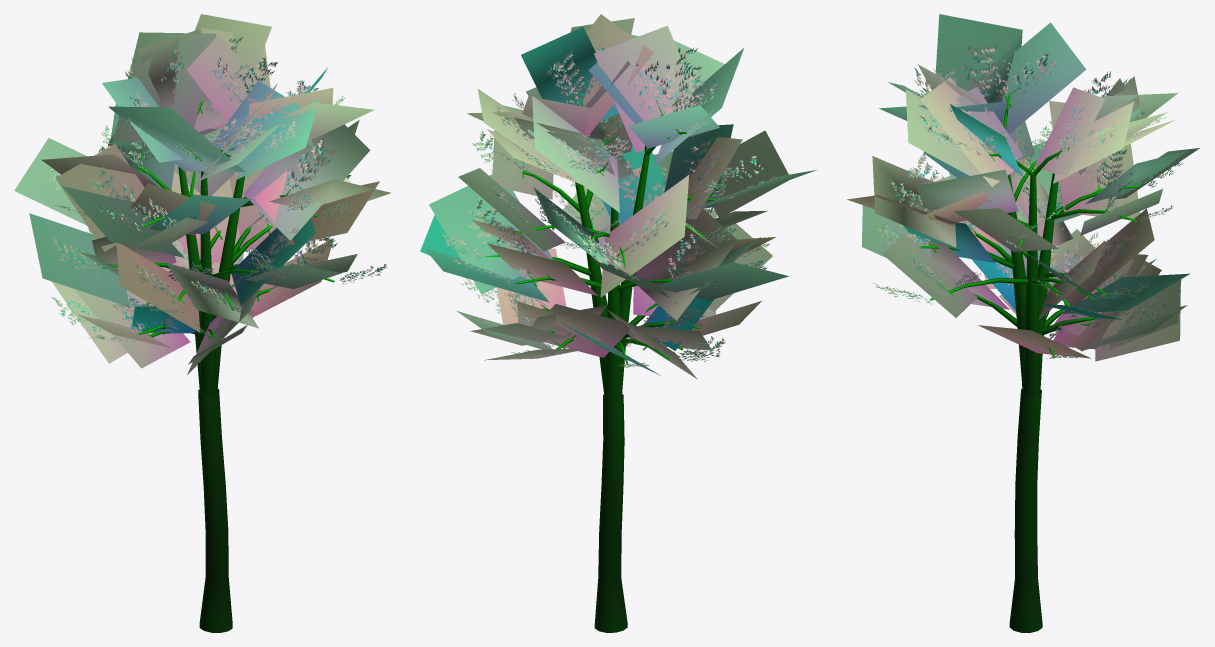
Rendered from hill_b_2.glb.
3 renders of one model, left to right at view 1: azimuth 30°, elevation 25°; view 2: azimuth 150°, elevation 25°; view 3: azimuth 270°, elevation 25°, orthographic.
Parts seen in each view (by area): view 1: mid, near; view 2: mid, near; view 3: mid, near.
Boxes of the visible parts, <box> form: mid: <box>14,14,390,394</box>; near: <box>47,37,387,632</box>; mid: <box>420,14,816,401</box>; near: <box>439,47,776,632</box>; mid: <box>847,14,1199,395</box>; near: <box>873,44,1182,632</box>.
Bounding box in the file's own units: 7.78 × 12.84 × 7.25.
